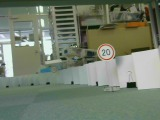speed_20: (95, 43, 116, 62)
